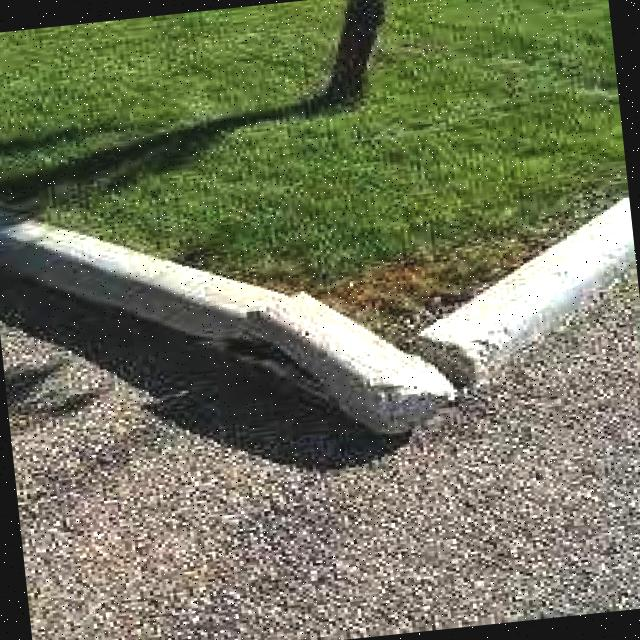curb: (278, 299, 474, 449), (1, 201, 195, 346), (464, 200, 637, 356), (170, 271, 295, 365)
